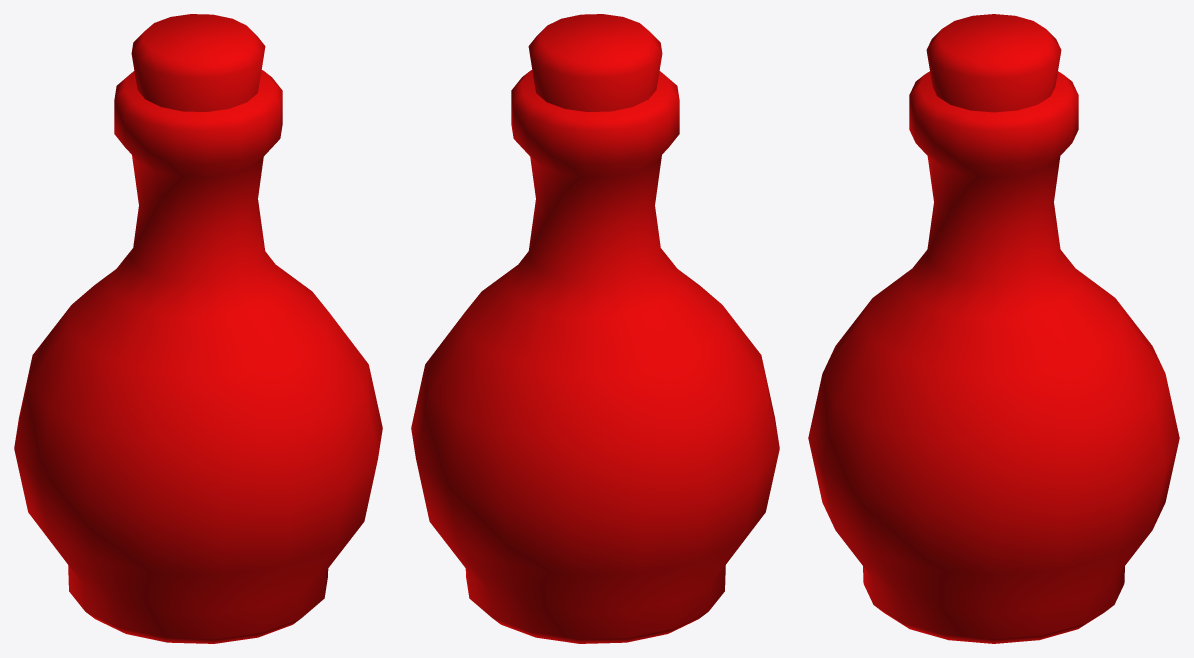
Rendered from health_potion_01_sm.glb.
3 renders of one model, left to right at view 1: azimuth 30°, elevation 25°; view 2: azimuth 150°, elevation 25°; view 3: azimuth 270°, elevation 25°, orthographic.
Parts seen in each view (by area): view 1: health_potion_mesh.001; view 2: health_potion_mesh.001; view 3: health_potion_mesh.001.
Part boxes in pixels (bbox=[...]): health_potion_mesh.001: bbox=[14, 14, 382, 643]; health_potion_mesh.001: bbox=[411, 14, 779, 643]; health_potion_mesh.001: bbox=[808, 14, 1179, 643].
Bounding box in the file's own units: 0.2641 × 0.4363 × 0.2641.
